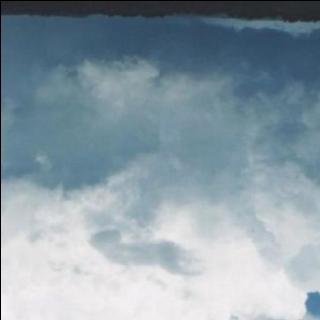Cumulonimbus: (0, 19, 320, 320)
